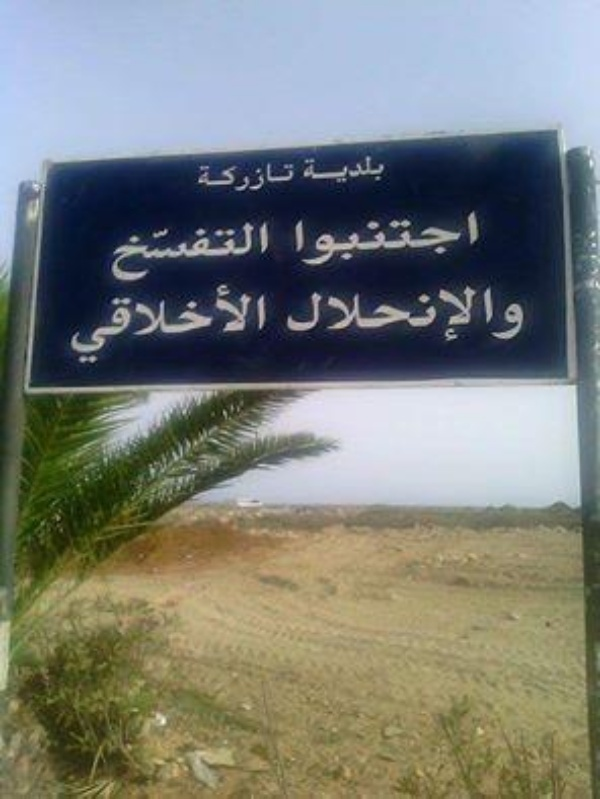text: (81, 282, 96, 366), (97, 282, 112, 366), (113, 282, 128, 366), (129, 282, 144, 366), (145, 282, 160, 366), (161, 282, 176, 366), (177, 282, 192, 366), (193, 282, 208, 366), (209, 282, 224, 366), (225, 282, 240, 366), (241, 282, 256, 366), (113, 220, 128, 286), (129, 220, 144, 286), (145, 220, 160, 286), (161, 220, 176, 286), (177, 220, 192, 286), (193, 220, 208, 286), (209, 220, 224, 286), (225, 220, 240, 286), (241, 220, 256, 286), (257, 220, 272, 286), (257, 282, 268, 366), (305, 209, 320, 270), (321, 209, 336, 270), (337, 209, 352, 270), (353, 209, 368, 270), (369, 209, 384, 270), (385, 209, 400, 270), (401, 209, 416, 270), (417, 209, 432, 270), (433, 209, 448, 270), (449, 209, 464, 270), (465, 209, 479, 270), (289, 286, 304, 341), (305, 286, 320, 341), (321, 286, 336, 341), (337, 286, 352, 341), (353, 286, 368, 341), (369, 286, 384, 341), (385, 286, 400, 341), (401, 286, 416, 341), (417, 286, 432, 341), (433, 286, 448, 341), (449, 286, 464, 341), (465, 286, 480, 341), (481, 286, 495, 341), (71, 282, 80, 366), (497, 301, 512, 343), (294, 209, 304, 270), (513, 301, 526, 343), (209, 159, 224, 195), (225, 159, 240, 195), (241, 159, 256, 195), (257, 159, 272, 195), (273, 159, 288, 195), (305, 155, 320, 189), (321, 155, 336, 189), (337, 155, 352, 189), (353, 155, 368, 189), (369, 155, 384, 189), (197, 159, 208, 195), (487, 301, 496, 343), (289, 159, 296, 195), (110, 220, 112, 286), (303, 155, 304, 189), (385, 155, 386, 189)
